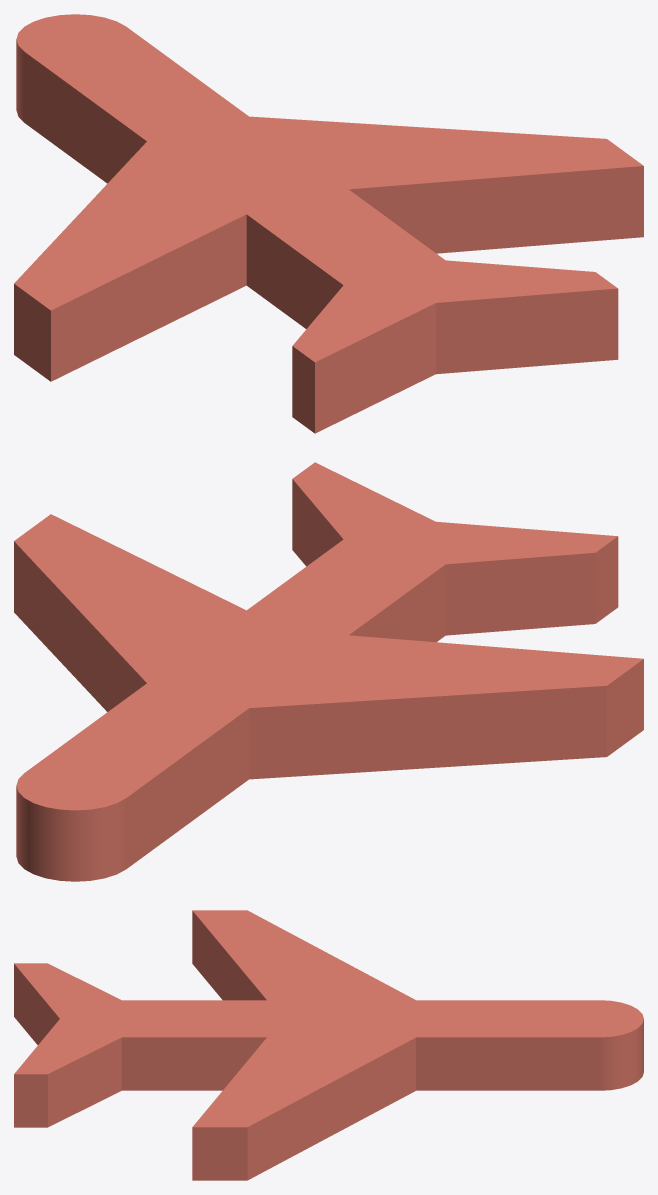
Rendered from threat-model.glb.
3 renders of one model, top to bottom at view 1: azimuth 30°, elevation 25°; view 2: azimuth 150°, elevation 25°; view 3: azimuth 270°, elevation 25°, orthographic. The views are drawn at different scales.
Parts seen in each view (by area): view 1: ADSB marker v1; view 2: ADSB marker v1; view 3: ADSB marker v1.
Part boxes in pixels (<box>): ADSB marker v1: <box>14,14,643,433</box>; ADSB marker v1: <box>14,462,643,881</box>; ADSB marker v1: <box>14,910,643,1180</box>.
Size of the model in its own units: 1.74 by 0.2 by 2.14.
